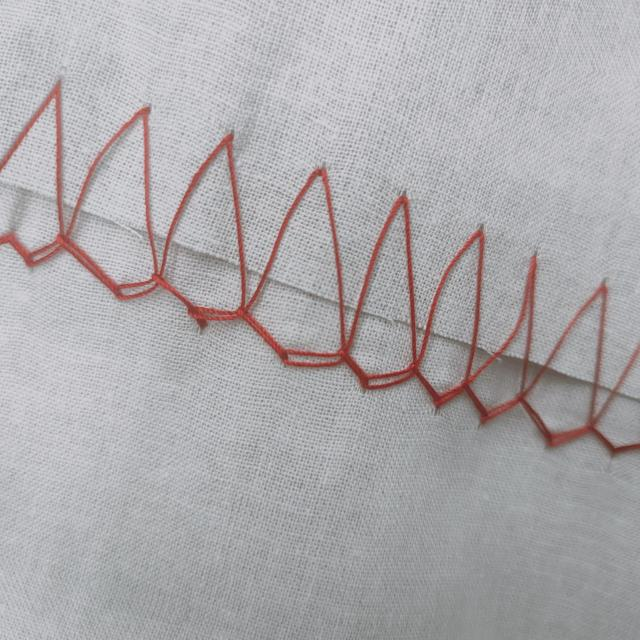gray stitch: (252, 162, 639, 456), (3, 68, 249, 334)
